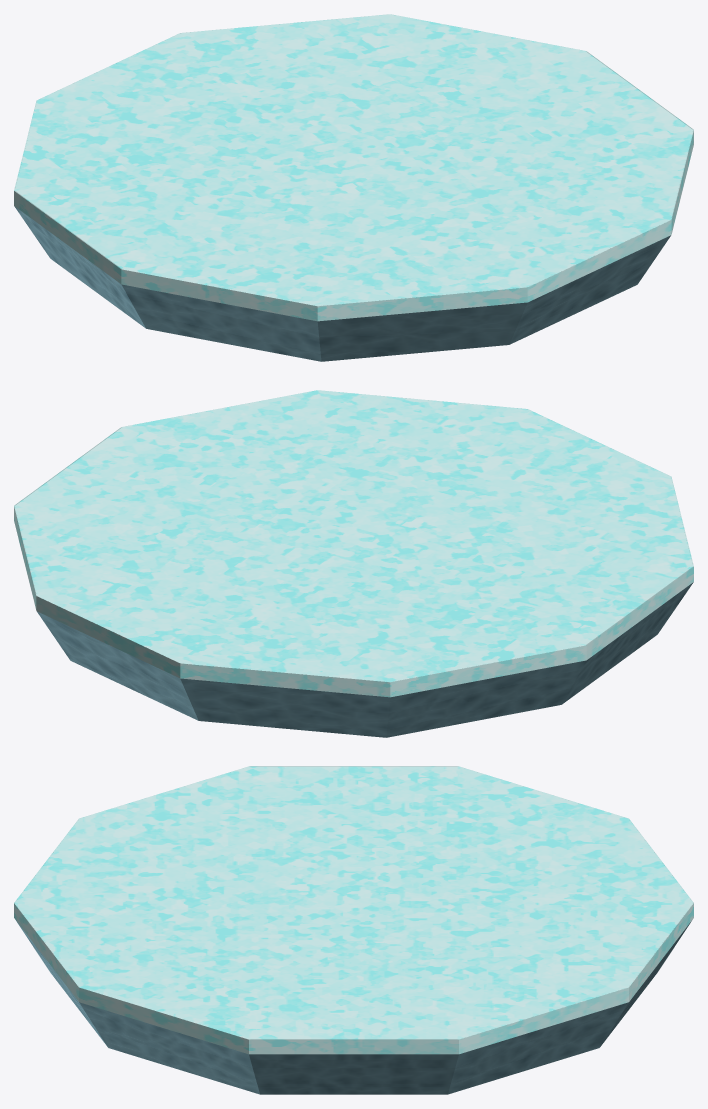
File: floating_stage.glb
3 views of the same model, one above another, from view 1: azimuth 30°, elevation 25°; view 2: azimuth 150°, elevation 25°; view 3: azimuth 270°, elevation 25° (orthographic). The views are drawn at different scales.
Parts seen in each view (by area): view 1: Floating Stage; view 2: Floating Stage; view 3: Floating Stage.
Part boxes in pixels (<box>): Floating Stage: <box>14,14,693,361</box>; Floating Stage: <box>14,390,693,737</box>; Floating Stage: <box>14,766,693,1094</box>.
Size of the model in its own units: 2.13 by 0.2527 by 2.24.
2 materials, 2 textured.
